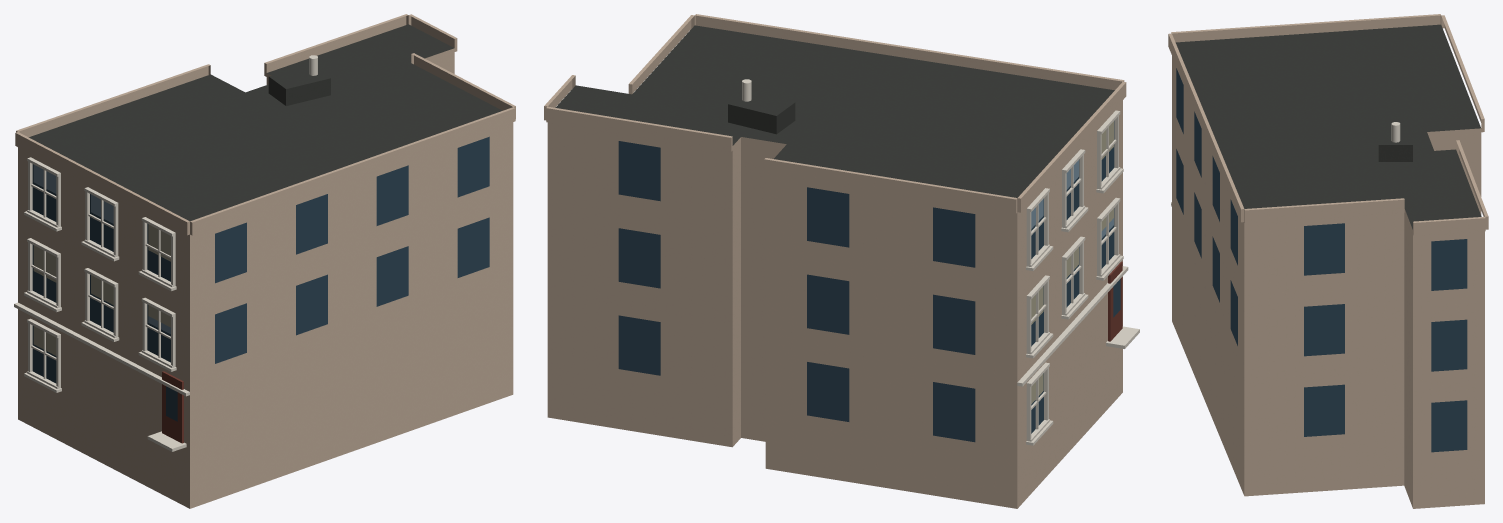
3 renders of one model, left to right at view 1: azimuth 30°, elevation 25°; view 2: azimuth 150°, elevation 25°; view 3: azimuth 270°, elevation 25°, orthographic. The views are drawn at different scales.
Parts seen in each view (by area): view 1: Footprint 0 / surface 2, Footprint 0 / surface 1, Inset glazing, Facade bay volumes, Cornices and window frames, Interior blind variation, Storefronts and doors, Sky reflection panels, Inferred rooftop service enclosure / surface 5, Inferred rooftop service enclosure / surface 3; view 2: Footprint 0 / surface 2, Footprint 0 / surface 1, Inset glazing, Facade bay volumes, Cornices and window frames, Interior blind variation, Inferred rooftop service enclosure / surface 6, Inferred rooftop service enclosure / surface 3, Storefronts and doors; view 3: Footprint 0 / surface 2, Footprint 0 / surface 1, Inset glazing, Facade bay volumes, Inferred rooftop service enclosure / surface 3, Inferred rooftop service enclosure / surface 1.
Boxes of the visible parts, x1,y1,x2,y2 form: Footprint 0 / surface 2: [18, 48, 513, 508]; Footprint 0 / surface 1: [29, 24, 502, 221]; Inset glazing: [32, 136, 489, 421]; Facade bay volumes: [15, 14, 515, 235]; Cornices and window frames: [14, 157, 189, 451]; Interior blind variation: [33, 224, 170, 355]; Storefronts and doors: [162, 371, 183, 443]; Sky reflection panels: [33, 165, 170, 334]; Inferred rooftop service enclosure / surface 5: [286, 78, 330, 105]; Inferred rooftop service enclosure / surface 3: [269, 67, 330, 88]; Footprint 0 / surface 2: [547, 100, 1122, 508]; Footprint 0 / surface 1: [555, 25, 1114, 197]; Inset glazing: [618, 121, 1120, 442]; Facade bay volumes: [544, 14, 1126, 213]; Cornices and window frames: [1017, 110, 1139, 445]; Interior blind variation: [1031, 121, 1113, 403]; Inferred rooftop service enclosure / surface 6: [728, 104, 776, 134]; Inferred rooftop service enclosure / surface 3: [728, 92, 794, 115]; Storefronts and doors: [1108, 261, 1122, 341]; Footprint 0 / surface 2: [1172, 56, 1484, 508]; Footprint 0 / surface 1: [1175, 24, 1481, 229]; Inset glazing: [1176, 68, 1467, 452]; Facade bay volumes: [1168, 14, 1488, 235]; Inferred rooftop service enclosure / surface 3: [1378, 123, 1412, 144]; Inferred rooftop service enclosure / surface 1: [1378, 145, 1412, 161].
Bounding box in the file's own units: 17.23 × 11.96 × 11.11.
